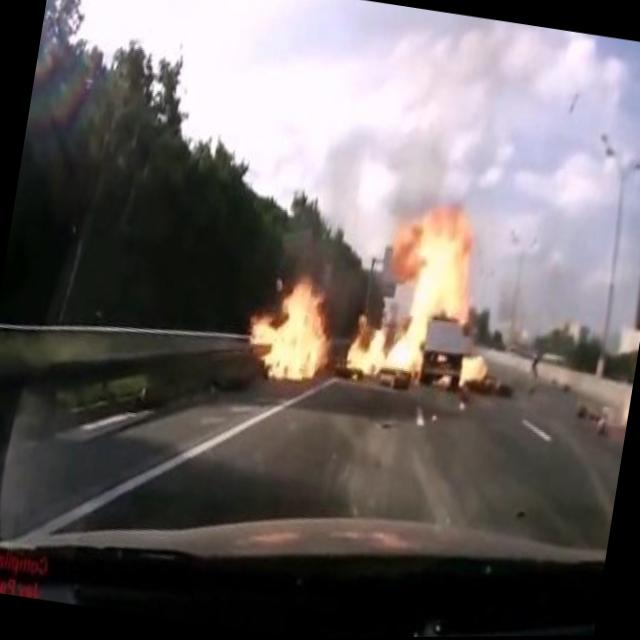fire: (336, 182, 516, 416), (237, 254, 345, 401)
